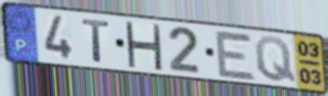2: (169, 26, 204, 77)
4: (43, 14, 75, 62)
E: (212, 28, 259, 83)
H: (123, 19, 164, 72)
Q: (253, 35, 298, 84)
T: (80, 17, 113, 65)
